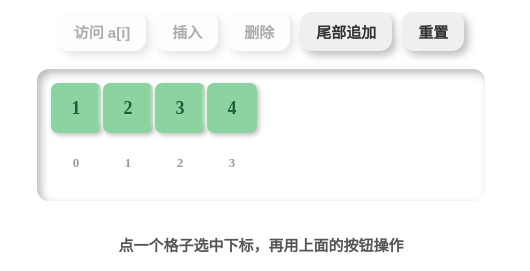
Scenario: ArrayViz › TC-VIZ-ARRAYVIZ-08 access 解说含 O(1)
The width and height of the screenshot is (530, 271).
Click the button with class "cell" showing "3" at (180, 108), box x1=155 y1=83 x2=205 y2=133
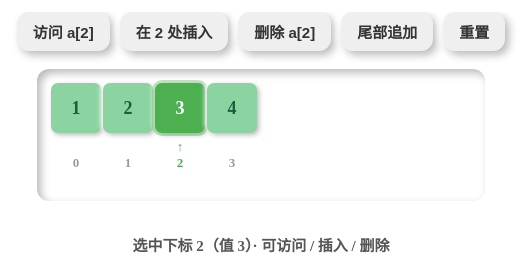
Click the button "访问 a[2]" at (63, 32), box x1=17 y1=12 x2=110 y2=51
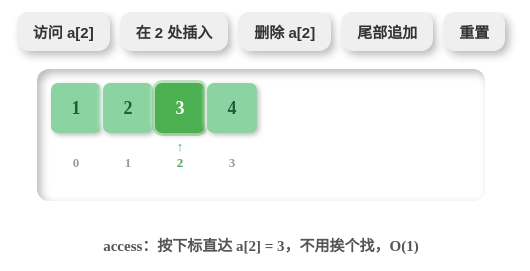
Check: the message with class "status" shows "O(1)", box x1=103 y1=238 x2=419 y2=254
